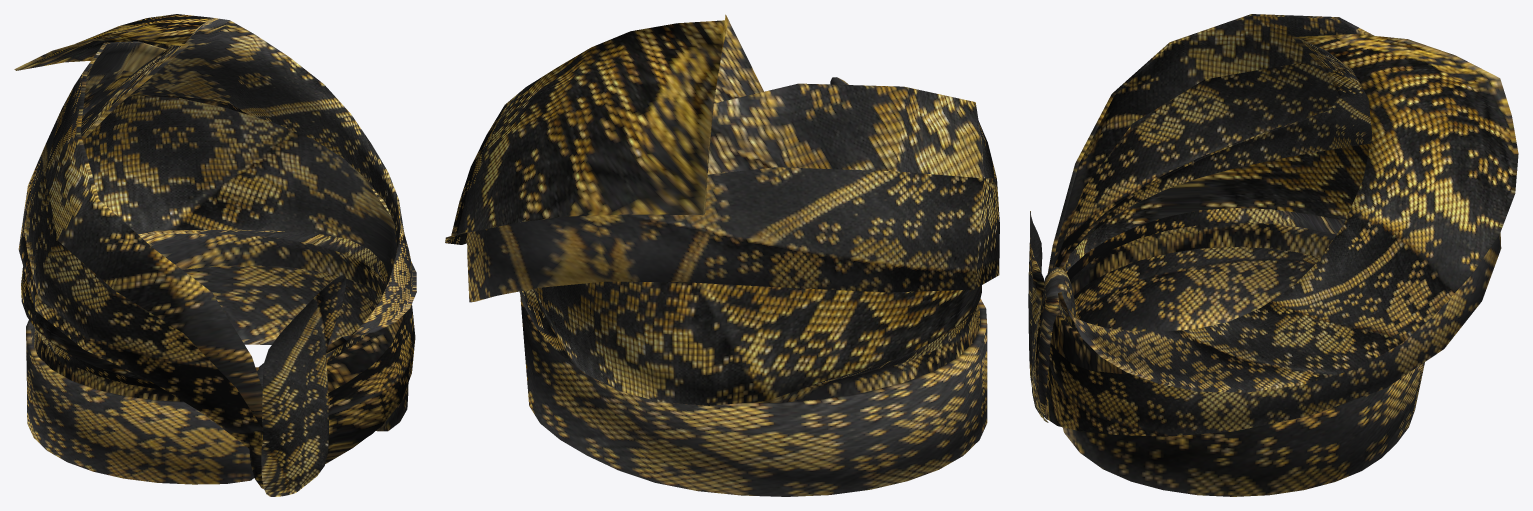
The model's file is tanjak_seri_megah.glb.
3 views of the same model, side by side, from view 1: azimuth 30°, elevation 25°; view 2: azimuth 150°, elevation 25°; view 3: azimuth 270°, elevation 25° (orthographic). The views are drawn at different scales.
Visible parts, largest first — view 1: ZAMRUD-01_Tanjak Seri Megah; view 2: ZAMRUD-01_Tanjak Seri Megah; view 3: ZAMRUD-01_Tanjak Seri Megah.
Part boxes in pixels (x1=…): ZAMRUD-01_Tanjak Seri Megah: x1=14, y1=14, x2=416, y2=496; ZAMRUD-01_Tanjak Seri Megah: x1=445, y1=14, x2=999, y2=496; ZAMRUD-01_Tanjak Seri Megah: x1=1028, y1=14, x2=1518, y2=496.
Bounding box in the file's own units: 34.32 × 31.48 × 36.05.
1 material, 1 textured.
